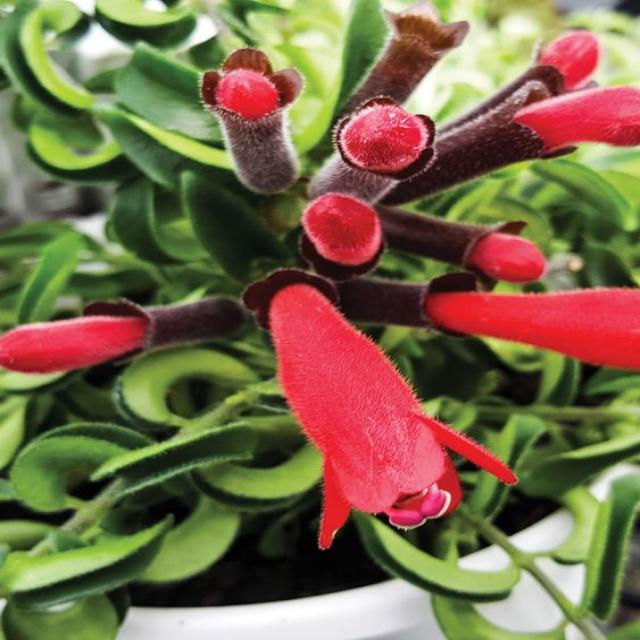Lipstick-Plant: (0, 29, 639, 534)
